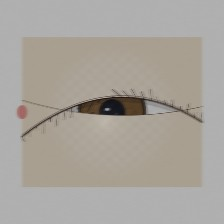hemorrhage_spot: (70, 83, 150, 148)
